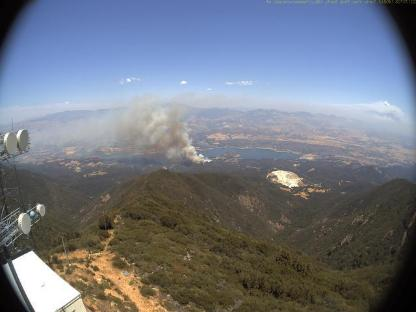smoke: (78, 87, 214, 165)
